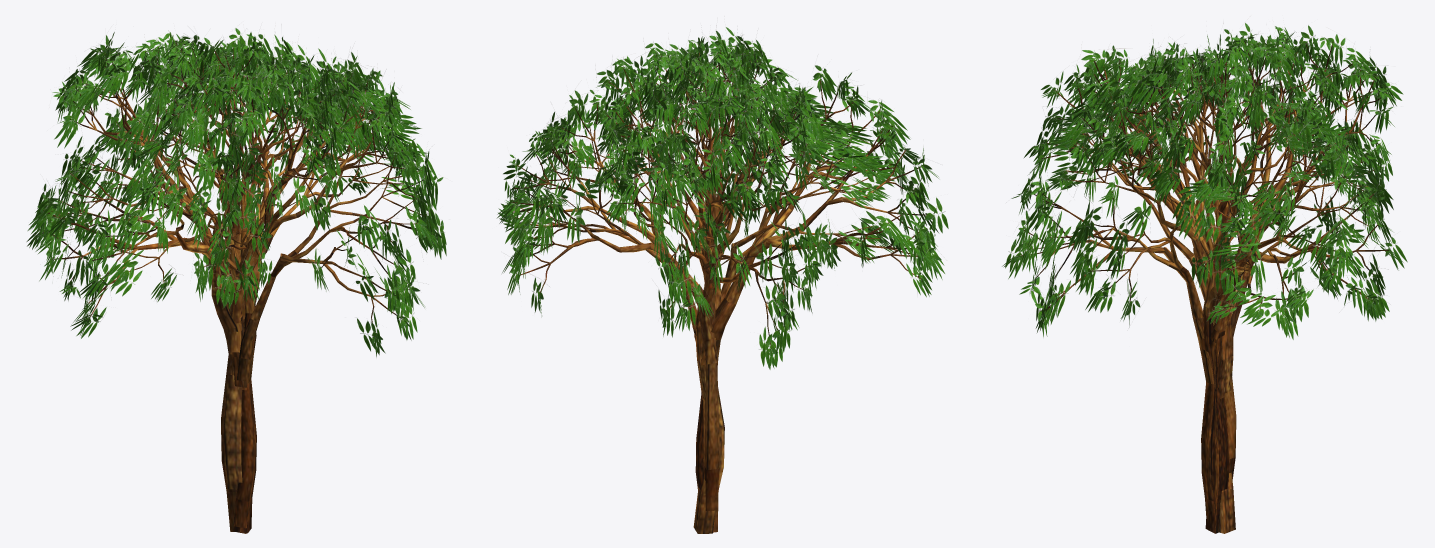
The model's file is tree.glb.
3 renders of one model, left to right at view 1: azimuth 30°, elevation 25°; view 2: azimuth 150°, elevation 25°; view 3: azimuth 270°, elevation 25°, orthographic. The views are drawn at different scales.
Visible parts, largest first — view 1: Object_2; view 2: Object_2; view 3: Object_2.
Boxes of the visible parts, x1,y1,x2,y2 form: Object_2: (26,28,446,533); Object_2: (496,25,948,533); Object_2: (1002,22,1407,533).
Size of the model in its own units: 74.61 by 81.3 by 63.25.
1 material, 1 textured.
